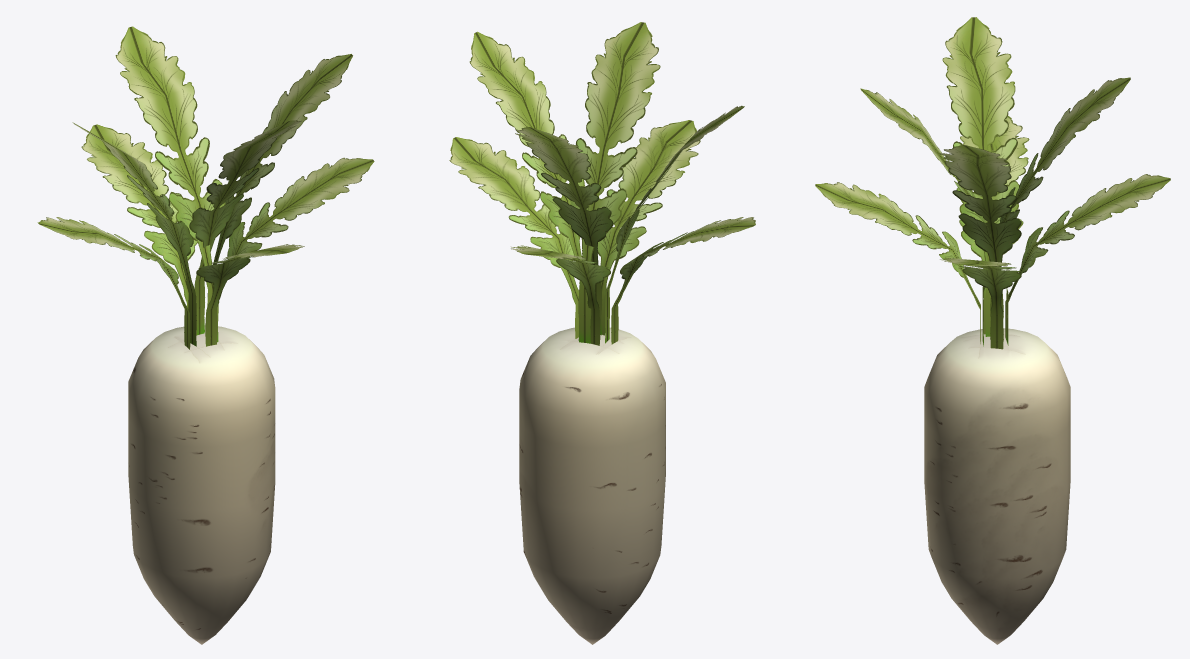
File: Radish_Stage_3.fbx
3 views of the same model, side by side, from view 1: azimuth 30°, elevation 25°; view 2: azimuth 150°, elevation 25°; view 3: azimuth 270°, elevation 25° (orthographic).
Parts seen in each view (by area): view 1: Radish_Level3; view 2: Radish_Level3; view 3: Radish_Level3.
Part boxes in pixels (left/top/right/bottom): Radish_Level3: left=37, top=26, right=374, bottom=644; Radish_Level3: left=449, top=22, right=755, bottom=644; Radish_Level3: left=815, top=17, right=1170, bottom=644.
Size of the model in its own units: 141 by 233 by 136.
2 materials, 2 textured.
